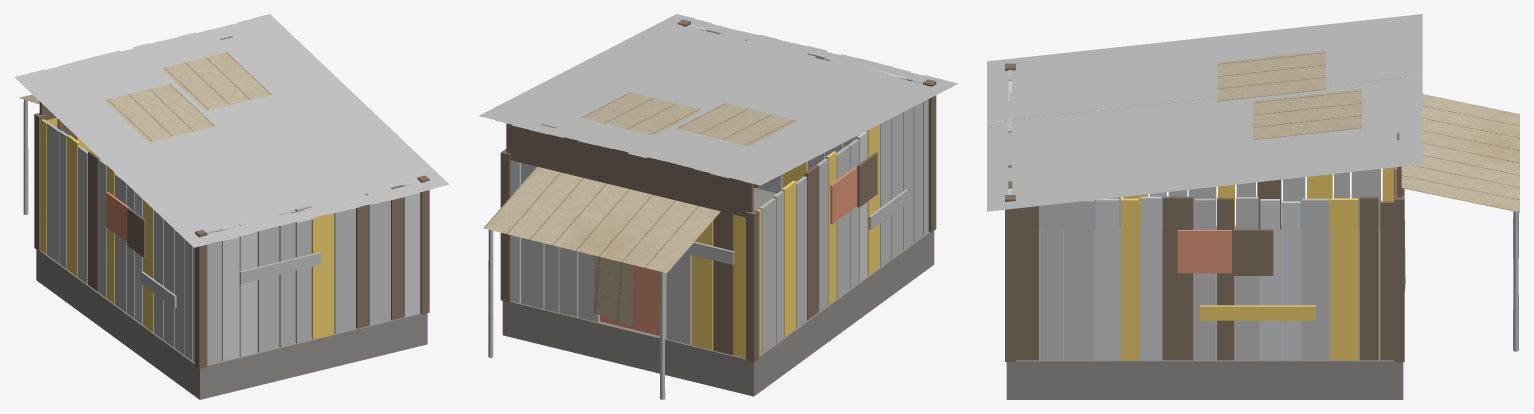
Rendered from SM_Art_Settlement_Shanty_1.gltf.
The picture shows the model from 3 angles, left to right: view 1: azimuth 30°, elevation 25°; view 2: azimuth 150°, elevation 25°; view 3: azimuth 270°, elevation 25°; orthographic projection. The views are drawn at different scales.
Visible parts, largest first — view 1: SM_Art_Settlement_Shanty_1; view 2: SM_Art_Settlement_Shanty_1; view 3: SM_Art_Settlement_Shanty_1.
Boxes of the visible parts, x1,y1,x2,y2 form: SM_Art_Settlement_Shanty_1: [14, 14, 449, 399]; SM_Art_Settlement_Shanty_1: [479, 14, 957, 399]; SM_Art_Settlement_Shanty_1: [987, 14, 1519, 399].
Size of the model in its own units: 4.6 by 3.46 by 6.85.
